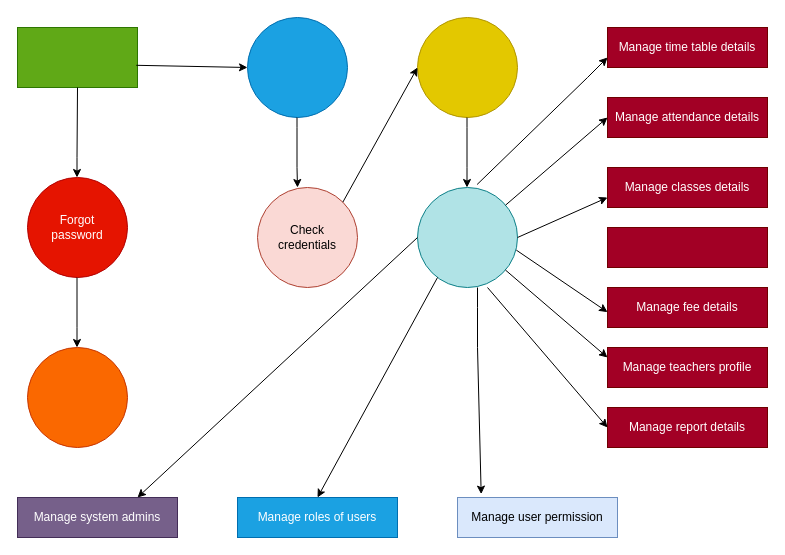
Some shapes in this 785 by 555 pixel diagram are drawn without their labels. The shapes that lost their labels are listed below. From the top down, each one's centre as x and y in pixels, then its label:
point (77, 57): Admin
point (297, 67): Login to system
point (467, 67): check roles of access
point (467, 237): Manage modules
point (687, 247): Manage student details
point (77, 397): Send email to user
